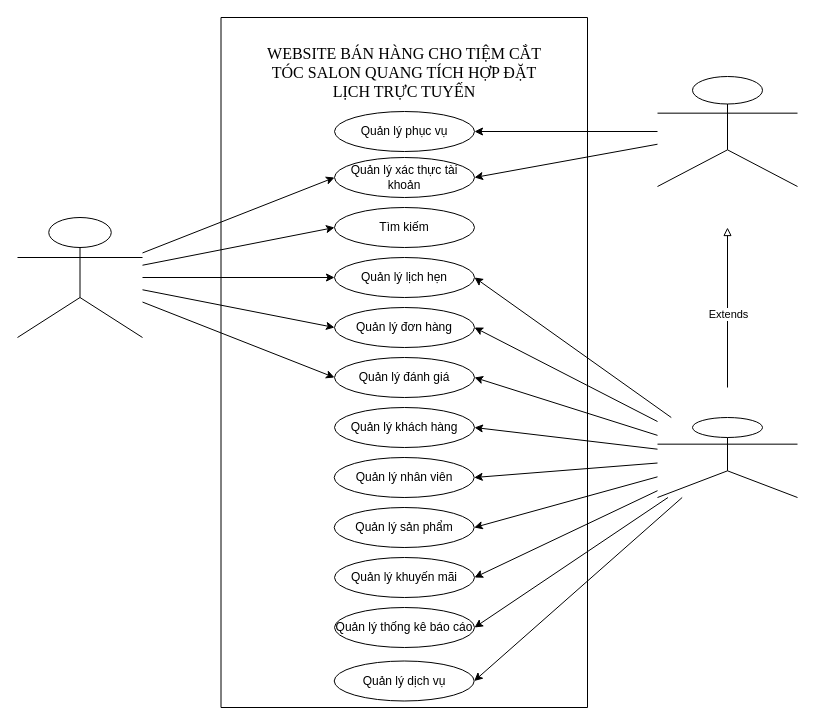
This 815x725 diagram has some shape labels left out. Each missing label, with the centre of its shape:
Khách hàng: (x=79, y=277)
Nhân viên: (x=727, y=131)
Quản lý cửa hàng: (x=727, y=457)
